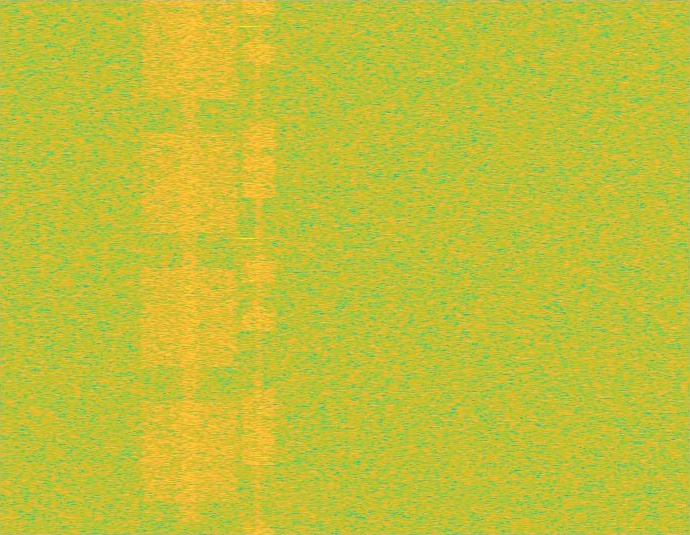5G: (138, 0, 241, 534)
DSSS: (178, 0, 201, 534), (255, 0, 263, 534)
LTE: (241, 0, 276, 534)
Radar: (241, 0, 255, 534)
